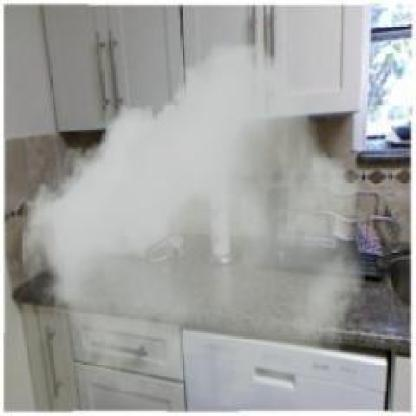Smoke: (23, 43, 366, 406)
